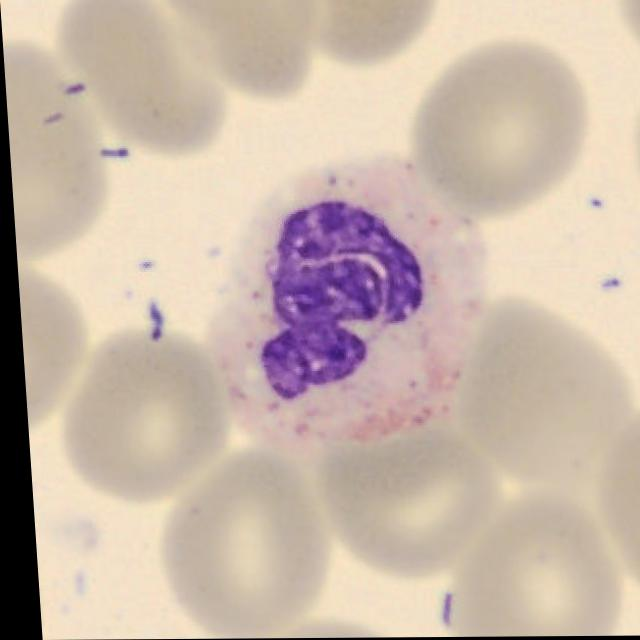Neutrofilo segmentado: (203, 157, 484, 450)
